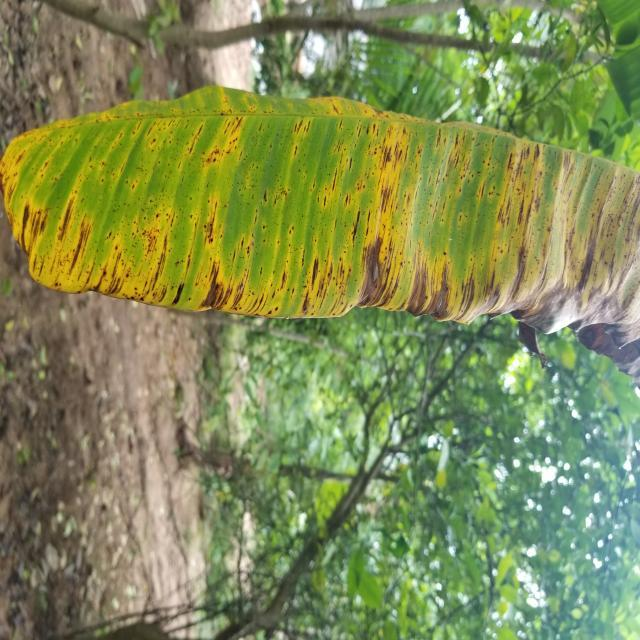Early_rust: (0, 61, 640, 381)
